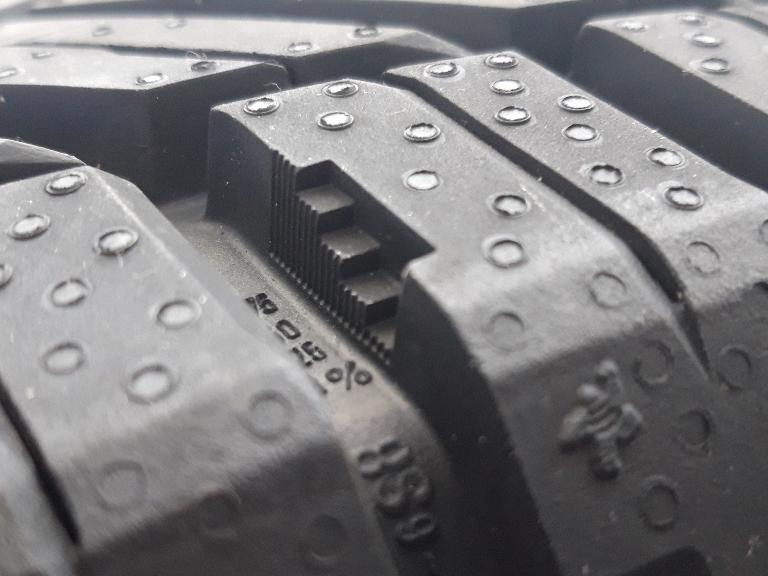temoin:100: (257, 142, 447, 382)
